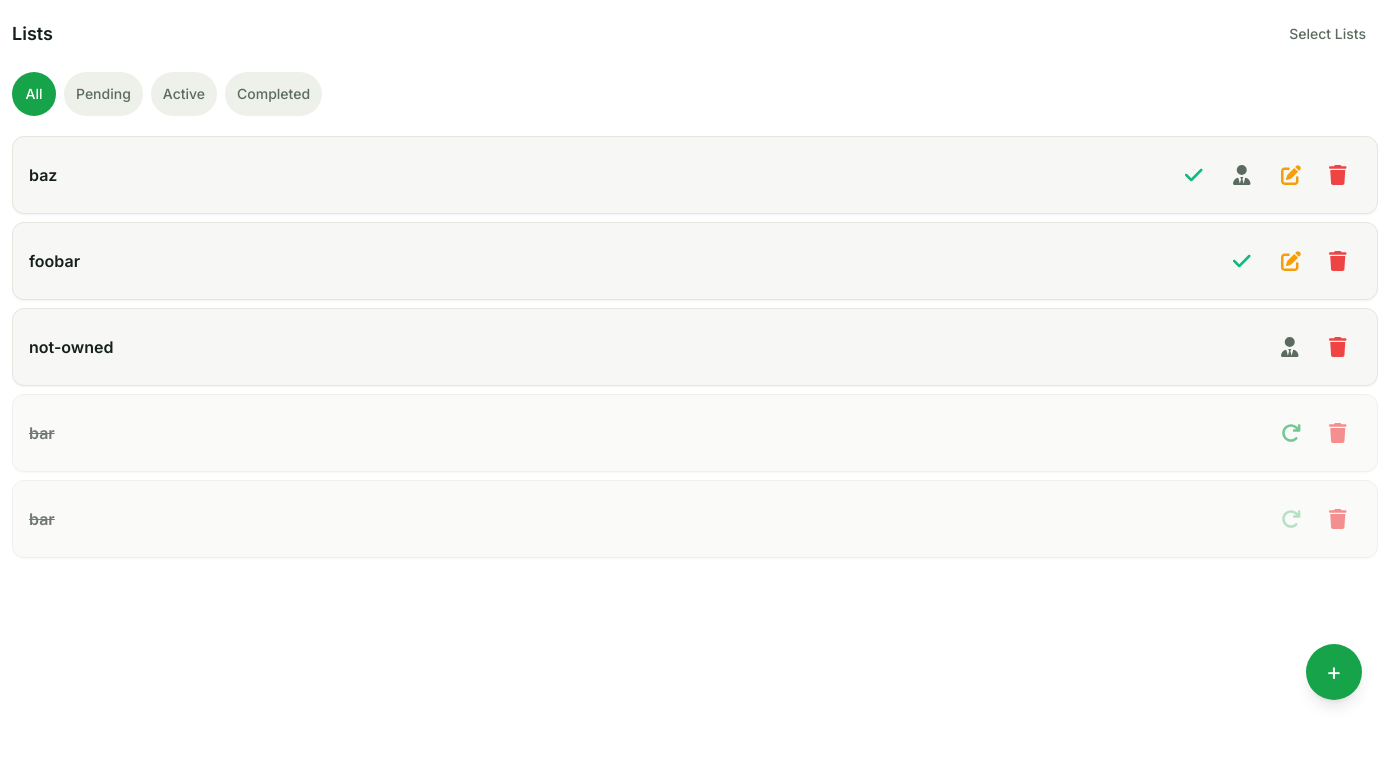
Test case: ListsContainer › shows empty state when pending filter has no lists
Click the button with test id "filter-pending". click: (103, 94)
box: [64, 72, 143, 116]
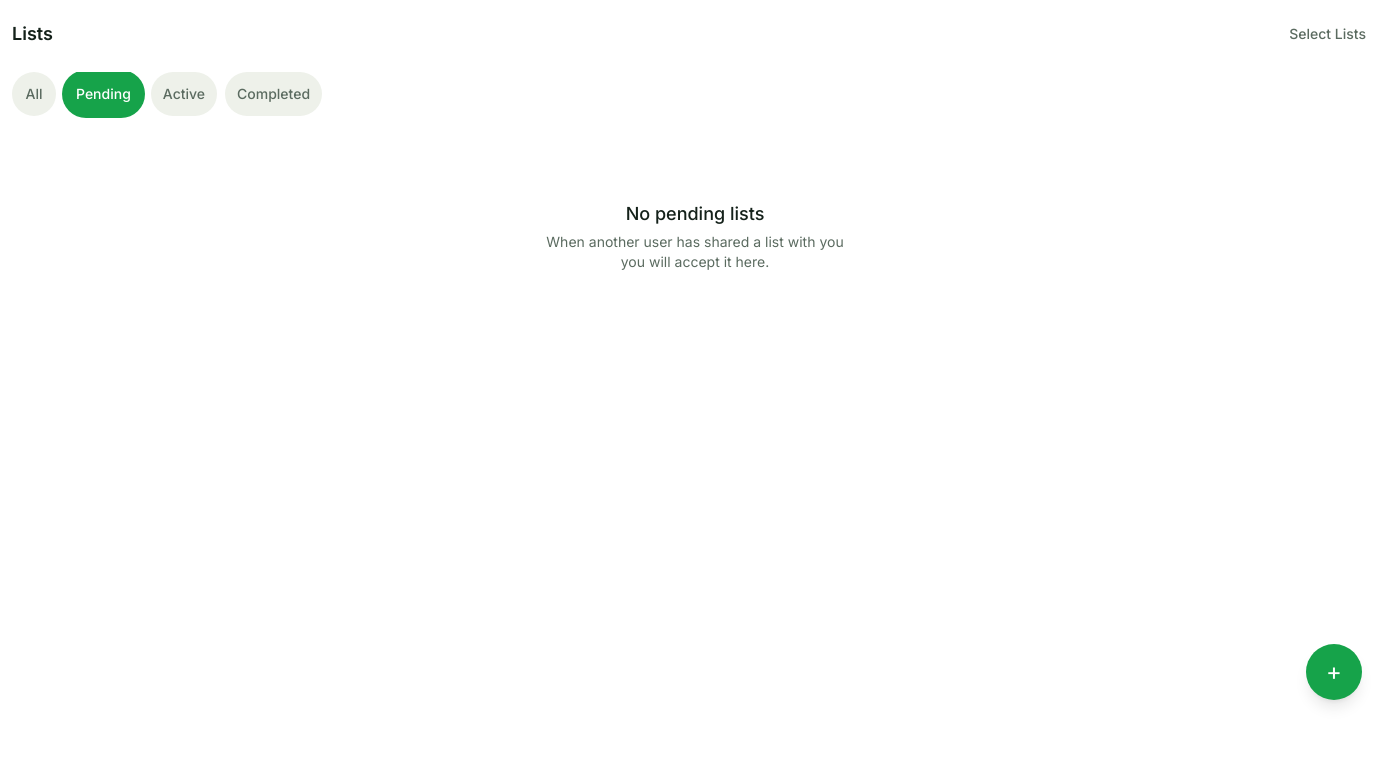
Expected: the element with test id "empty-state" is shown, [546, 203, 844, 270]
Expected: the button with test id "list-id5" is gone
